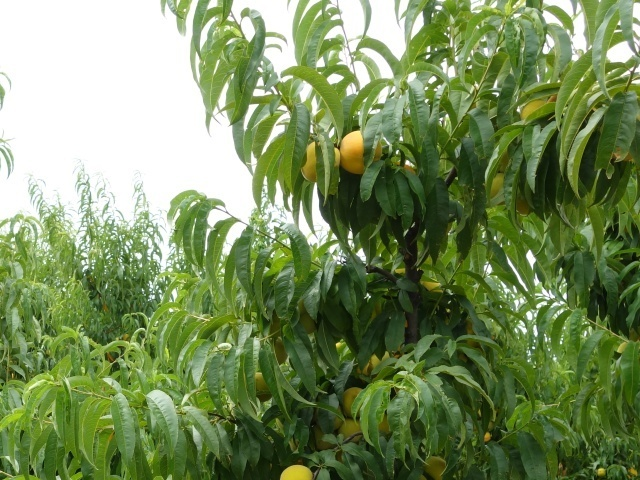peach: (295, 134, 344, 184), (339, 126, 385, 177), (338, 384, 374, 420), (335, 413, 368, 447), (251, 370, 277, 403), (277, 462, 317, 480), (422, 454, 450, 476), (297, 311, 320, 335)
